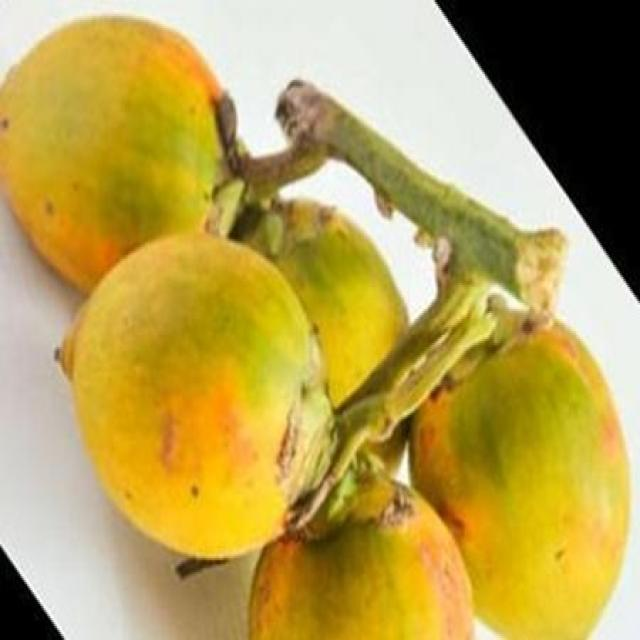good: (53, 231, 391, 566), (408, 315, 631, 638), (0, 14, 246, 297), (215, 161, 411, 409), (246, 494, 479, 638)
